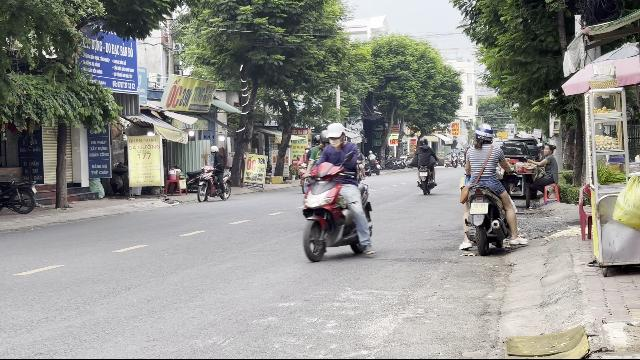helmet: (474, 124, 494, 144)
licenseplate: (470, 203, 488, 213)
motorcyclist: (296, 121, 376, 261), (456, 122, 520, 254)
nohelmet: (324, 122, 346, 146)
